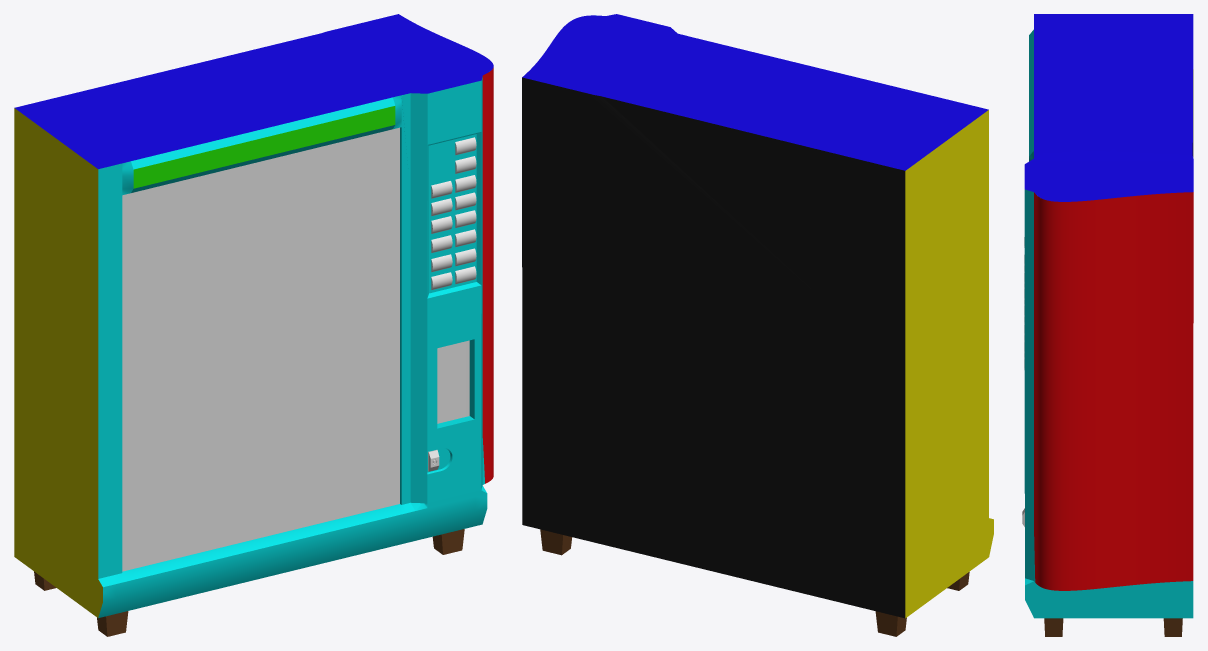
Rendered from vending mechine v2.fbx.
The picture shows the model from 3 angles, left to right: view 1: azimuth 30°, elevation 25°; view 2: azimuth 150°, elevation 25°; view 3: azimuth 270°, elevation 25°; orthographic projection. The views are drawn at different scales.
Parts seen in each view (by area): view 1: Cube, see through advert, recive door; view 2: Cube; view 3: Cube.
Boxes of the visible parts, left/top/right/bottom form: Cube: left=14, top=14, right=493, bottom=636; see through advert: left=122, top=127, right=399, bottom=571; recive door: left=437, top=340, right=469, bottom=423; Cube: left=522, top=14, right=993, bottom=636; Cube: left=1022, top=14, right=1193, bottom=636.
Bounding box in the file's own units: 559 × 626 × 215.
